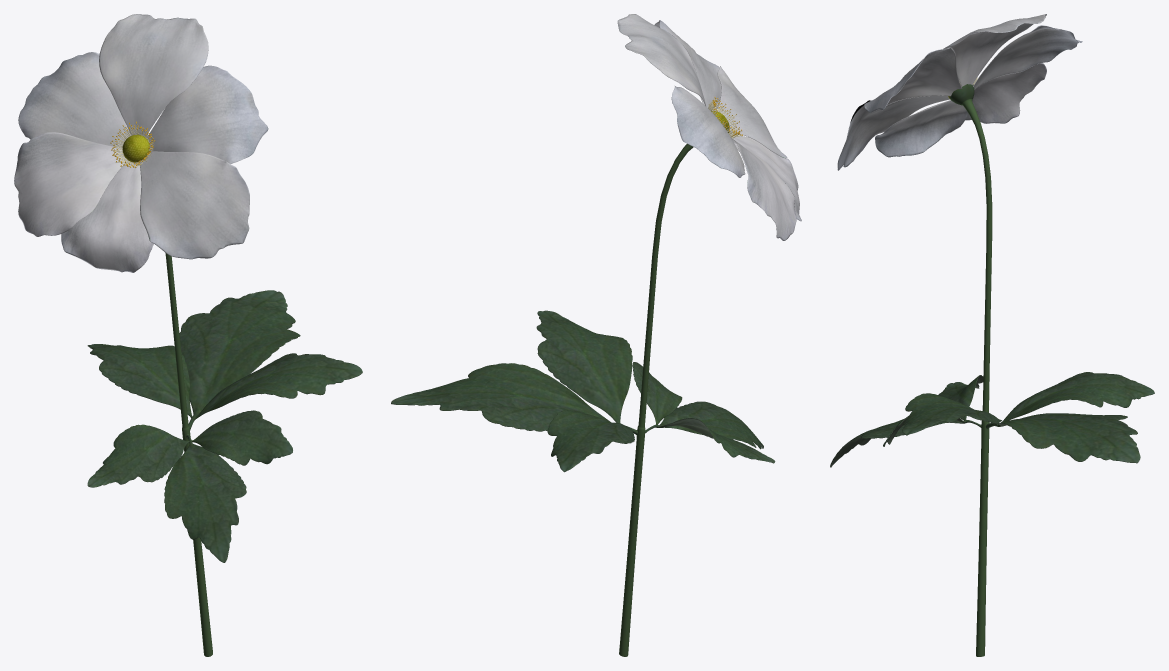
3 renders of one model, left to right at view 1: azimuth 30°, elevation 25°; view 2: azimuth 150°, elevation 25°; view 3: azimuth 270°, elevation 25°, orthographic. The views are drawn at different scales.
Visible parts, largest first — view 1: 12973_anemone_flower_v1_l2; view 2: 12973_anemone_flower_v1_l2; view 3: 12973_anemone_flower_v1_l2.
Boxes of the visible parts, x1=… form: 12973_anemone_flower_v1_l2: x1=14, y1=14, x2=362, y2=656; 12973_anemone_flower_v1_l2: x1=391, y1=14, x2=801, y2=656; 12973_anemone_flower_v1_l2: x1=830, y1=14, x2=1154, y2=656.
Size of the model in its own units: 15.93 by 29.99 by 14.18.
Materials: 1 (1 with a texture image).
